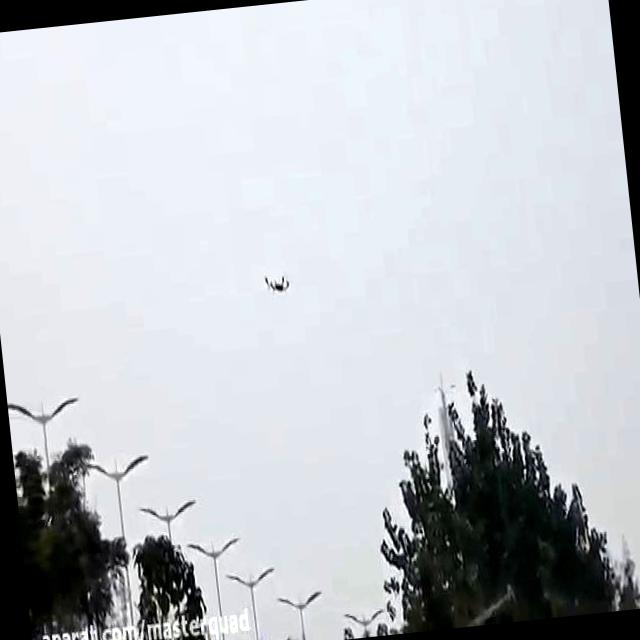drone: (258, 266, 293, 296)
